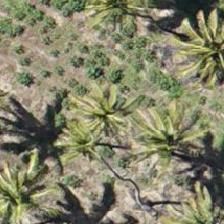coconut_tree: (126, 93, 216, 183), (54, 60, 144, 150), (32, 102, 122, 192), (0, 147, 64, 223), (171, 3, 223, 93), (158, 173, 223, 223)
